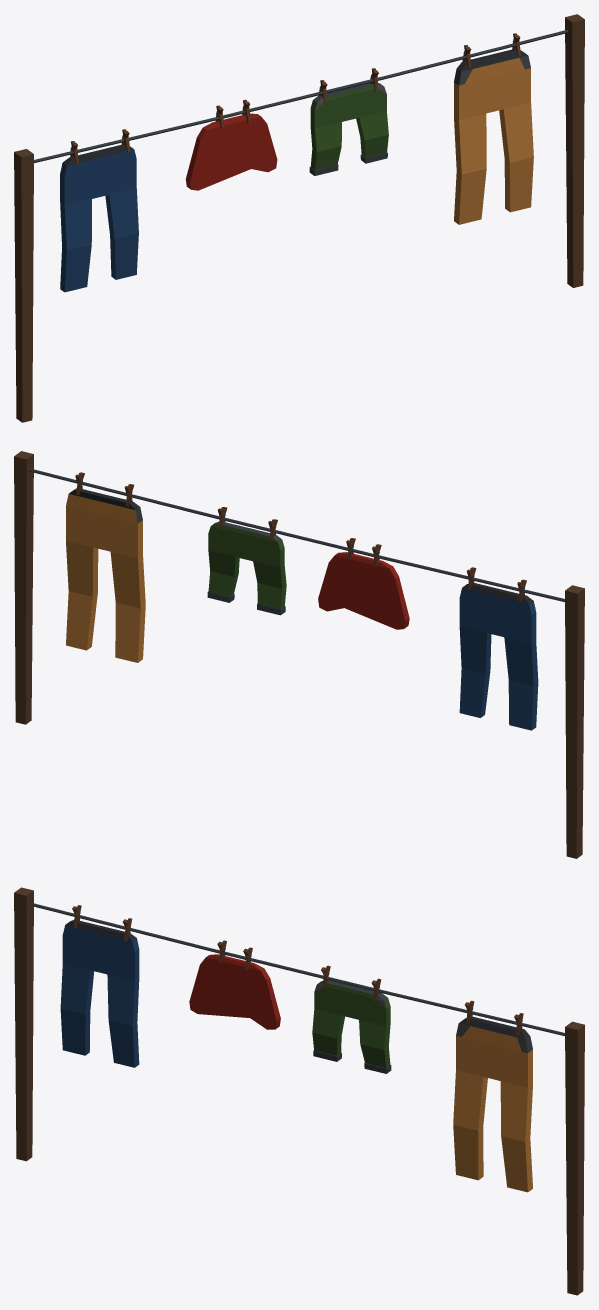
Rendered from Clothe dryer_1.fbx.
3 renders of one model, top to bottom at view 1: azimuth 30°, elevation 25°; view 2: azimuth 150°, elevation 25°; view 3: azimuth 330°, elevation 25°, orthographic.
Visible parts, largest first — view 1: Clothe dryer_1; view 2: Clothe dryer_1; view 3: Clothe dryer_1.
Part boxes in pixels (<box>): Clothe dryer_1: <box>14,14,584,422</box>; Clothe dryer_1: <box>14,451,584,858</box>; Clothe dryer_1: <box>14,887,584,1295</box>.
Size of the model in its own units: 372 by 168 by 9.99.
